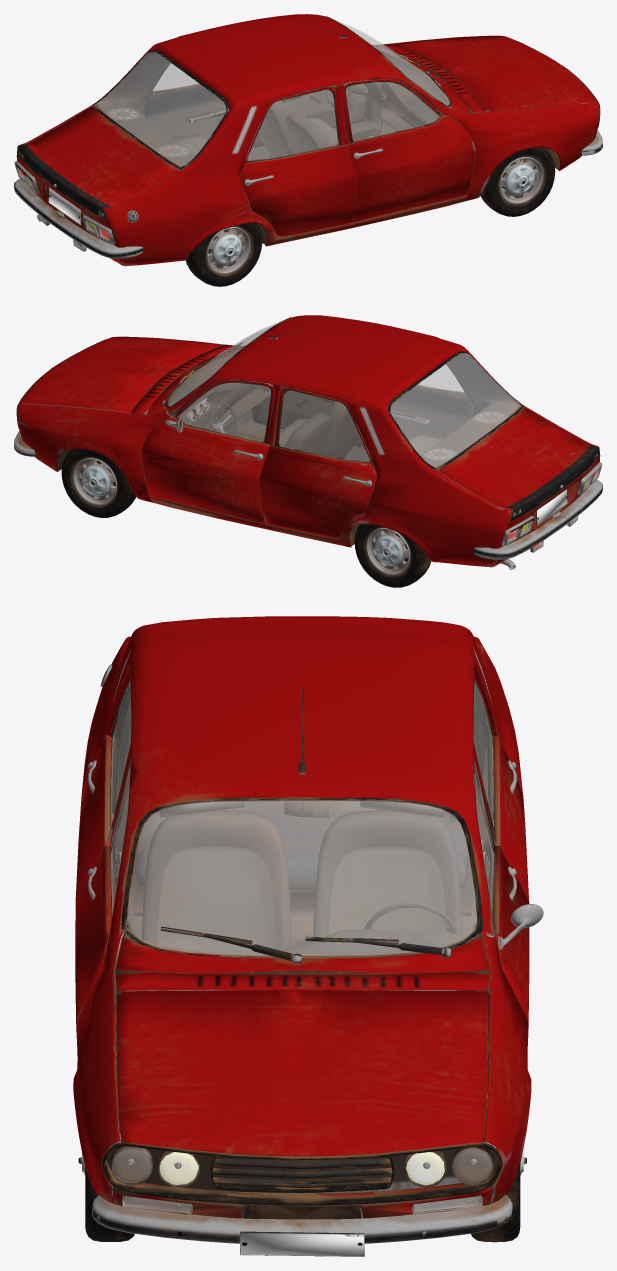
The model's file is oldcar.glb.
The picture shows the model from 3 angles, top to bottom: view 1: azimuth 30°, elevation 25°; view 2: azimuth 150°, elevation 25°; view 3: azimuth 270°, elevation 25°; orthographic projection. The views are drawn at different scales.
Parts seen in each view (by area): view 1: Object_7, Object_20, Object_8, Object_31, Object_26, Object_29, Object_27, Object_21, Object_35, Object_39, Object_23, Object_17 (+1 smaller); view 2: Object_7, Object_17, Object_8, Object_31, Object_23, Object_29, Object_24, Object_18, Object_33, Object_37, Object_26, Object_20 (+1 smaller); view 3: Object_7, Object_29, Object_8, Object_17, Object_20, Object_26, Object_23, Object_9, Object_15, Object_27, Object_24, Object_33 (+3 smaller).
Part boxes in pixels (x1,y1,x2,y2): Object_7: (14,14,602,266); Object_20: (341,78,475,222); Object_8: (16,20,596,249); Object_31: (17,107,179,220); Object_26: (240,86,357,236); Object_29: (394,36,597,111); Object_27: (247,89,337,160); Object_21: (346,82,438,140); Object_35: (480,147,555,216); Object_39: (185,223,262,286); Object_23: (144,79,226,139); Object_17: (253,83,366,147); Object_7: (14,315,602,569); Object_17: (141,380,275,523); Object_8: (20,321,600,550); Object_31: (437,408,599,521); Object_23: (259,387,376,537); Object_29: (19,337,222,412); Object_24: (279,391,369,461); Object_18: (178,383,270,441); Object_33: (61,448,136,517); Object_37: (354,524,431,587); Object_26: (390,380,472,440); Object_20: (251,386,363,448); Object_7: (73,616,531,1256); Object_29: (116,990,488,1156); Object_8: (111,800,492,1213); Object_17: (473,755,543,1028); Object_20: (75,756,131,1037); Object_26: (75,677,130,902); Object_23: (473,676,529,902); Object_9: (112,1148,491,1214); Object_15: (159,1152,444,1185); Object_27: (111,681,130,825); Object_24: (474,681,493,824); Object_33: (471,1150,526,1242).
Size of the model in its own units: 5.47 by 1.94 by 2.13.
Materials: 5 (4 with a texture image).
